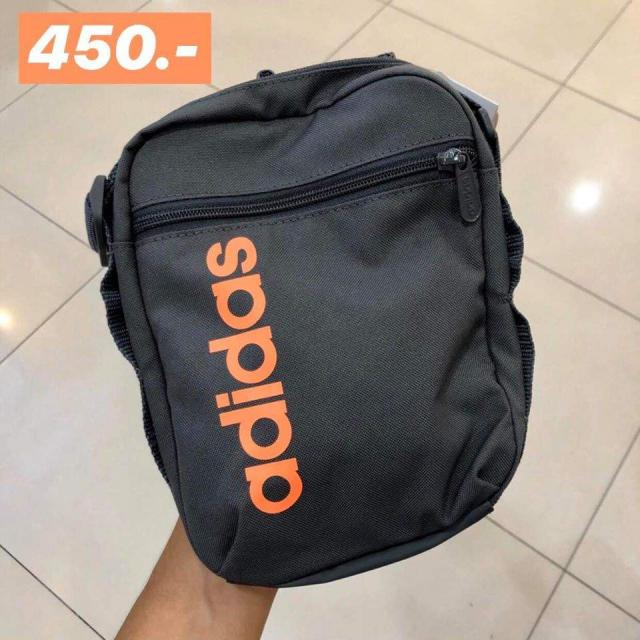Handbag: (88, 51, 538, 585)
